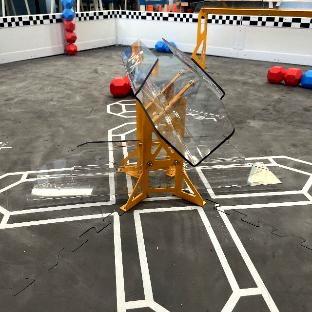V5_BLUE: (156, 40, 169, 50)
V5_RED: (267, 66, 302, 86), (111, 75, 130, 97), (66, 43, 76, 54)
